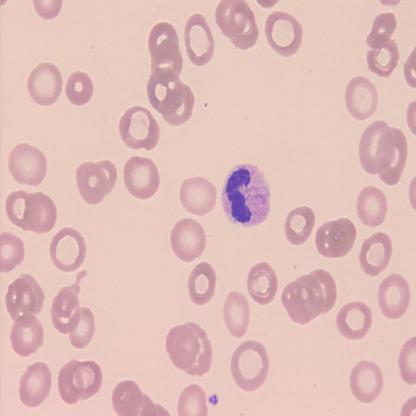Band Neutrophil: (220, 162, 272, 229)
